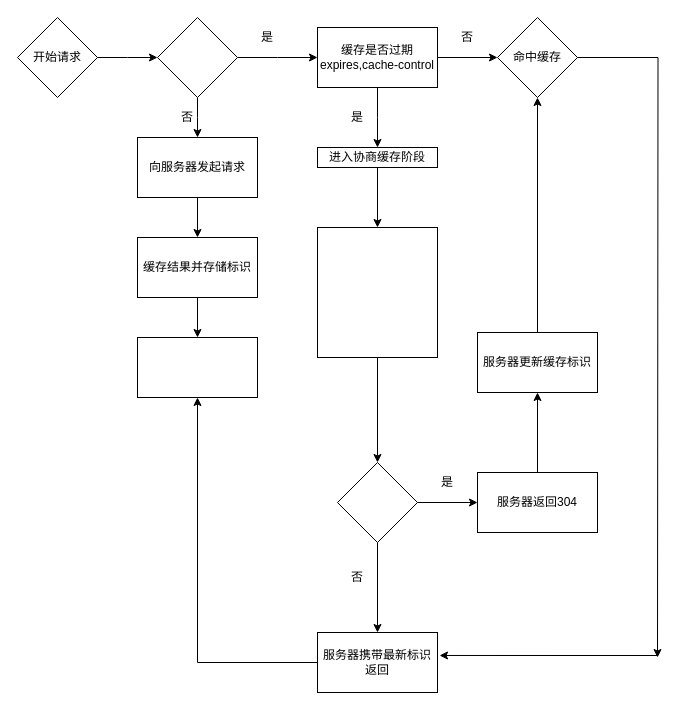
Some shapes in this 684 by 710 pixel diagram are drawn without their labels. Here are the shapes that lost their labels. From the top down, the centre of each, then its label:
[197,57]: 是否有缓存
[377,292]: 携带的唯一标识发给服务器，询问资源是否更新，如果更新则返回最新，不更新则返回304 If-Modified-Since etag/If-None-Match
[197,367]: 返回结果
[377,502]: 资源是否更新
